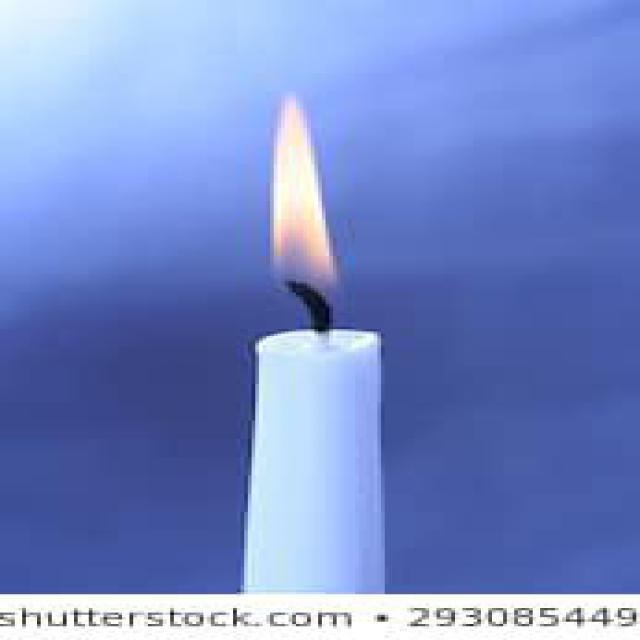Fire: (266, 92, 344, 306)
